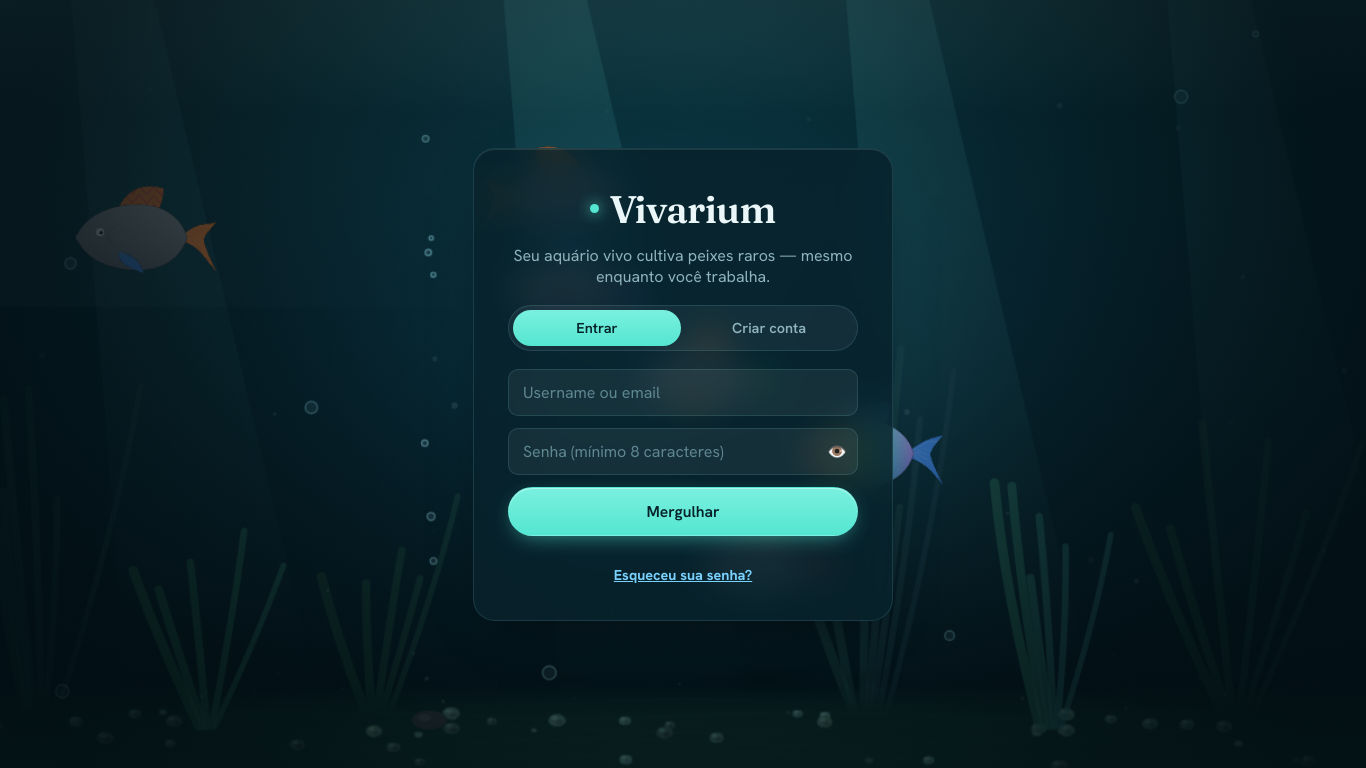
Mochila › peixe novo (não revelado) sempre aparece primeiro na lista, não importa a ordenação
In the field with placeholder "Username ou email": (683, 393) [508,369,858,416], type "jogador1"
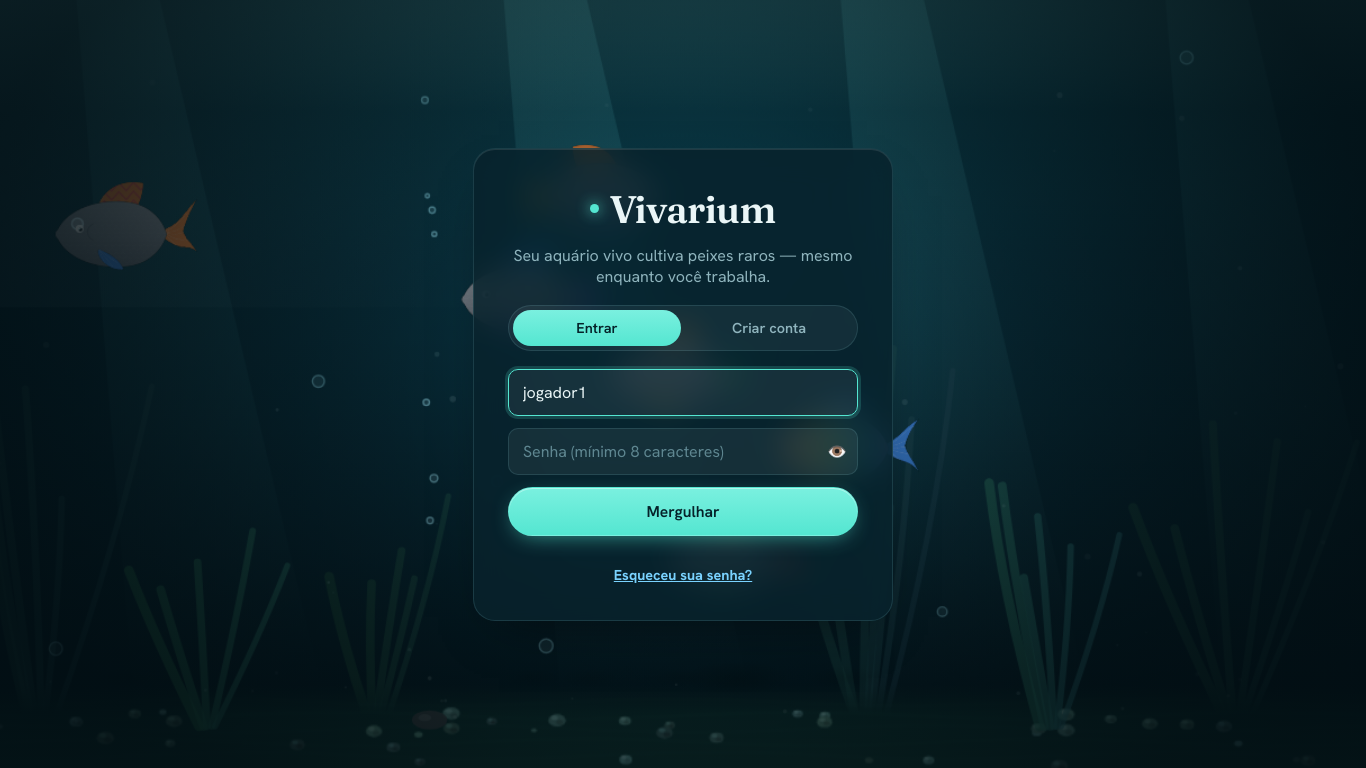
In the password field with placeholder "Senha (mínimo 8 caracteres)": (683, 452) [508,428,858,475], type "senha-forte-123"
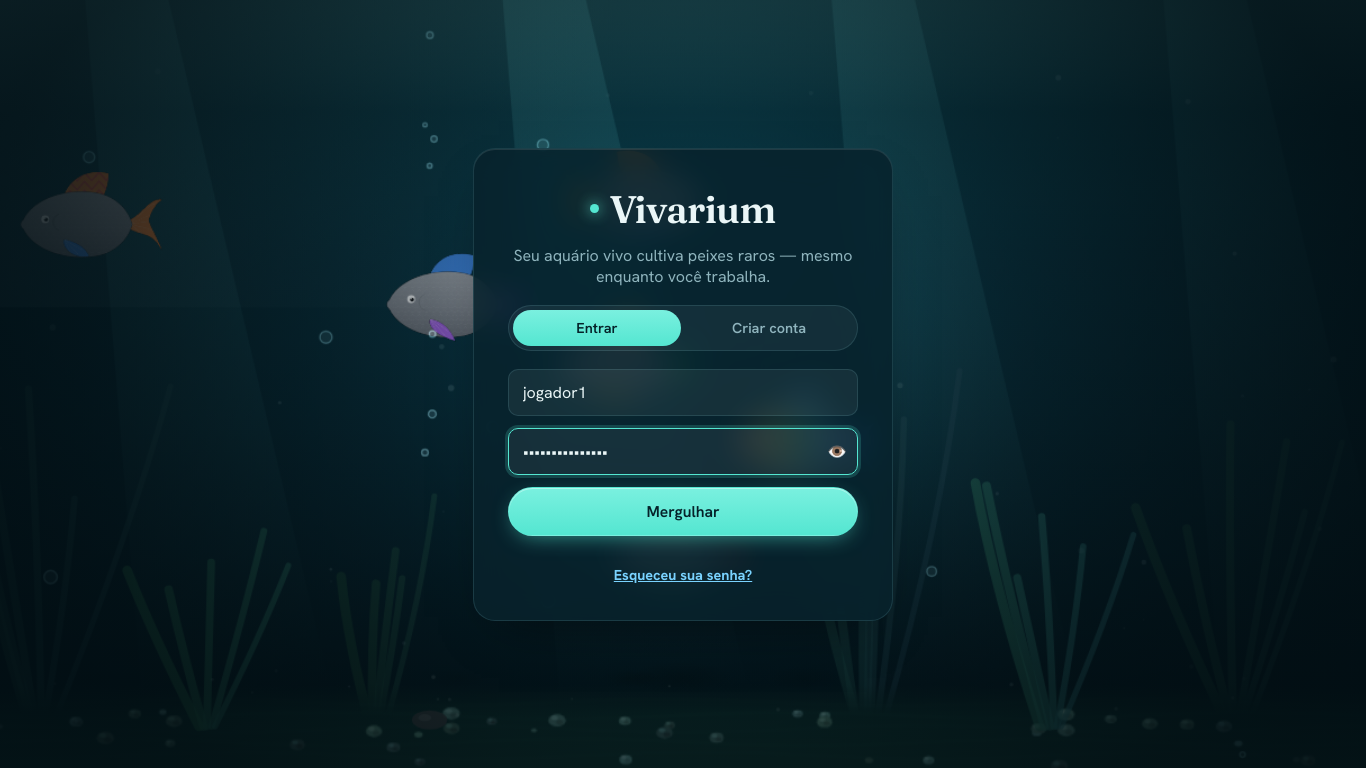
Click the button "Mergulhar": (683, 512) [508,487,858,536]
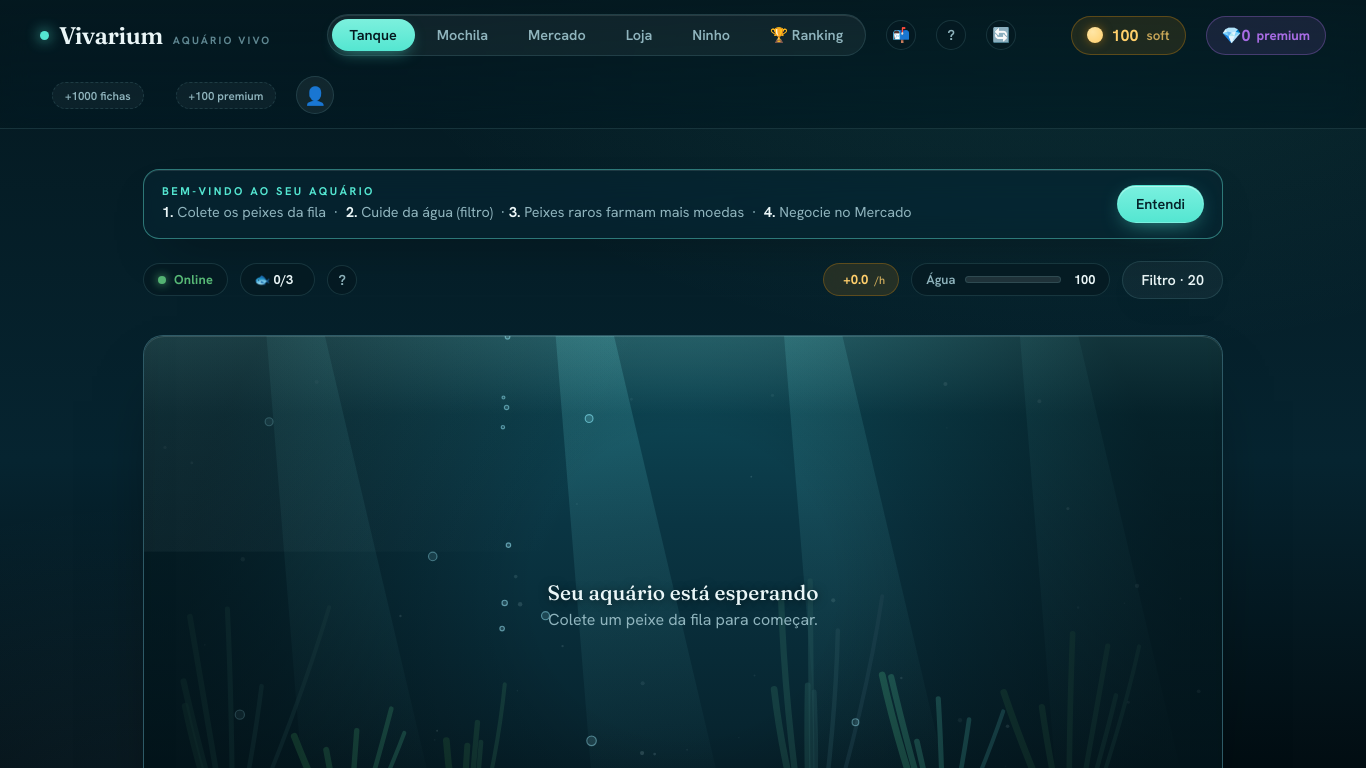
Click the button "Mochila": (463, 35) [419,19,506,51]
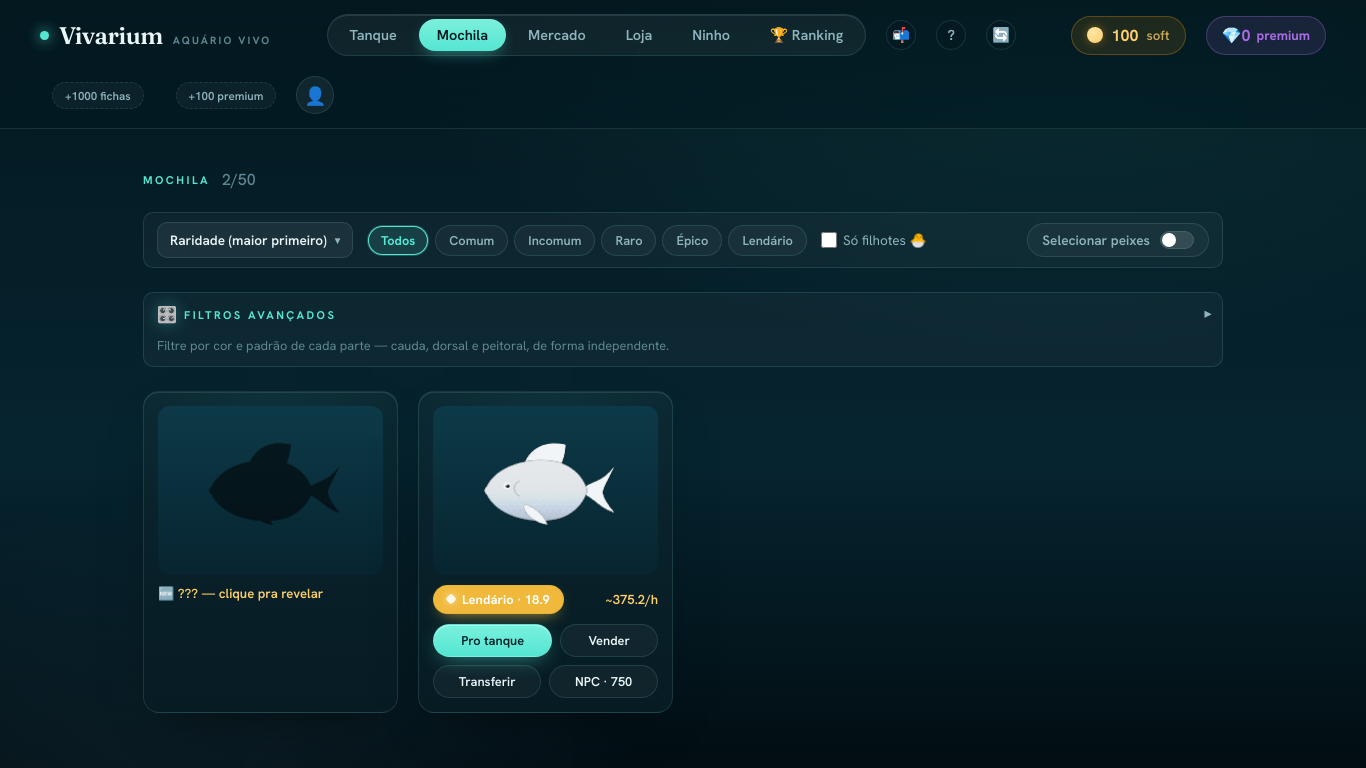
Expected: the element showing "🆕 ??? — clique pra revelar" is shown, [143,391,398,713]
